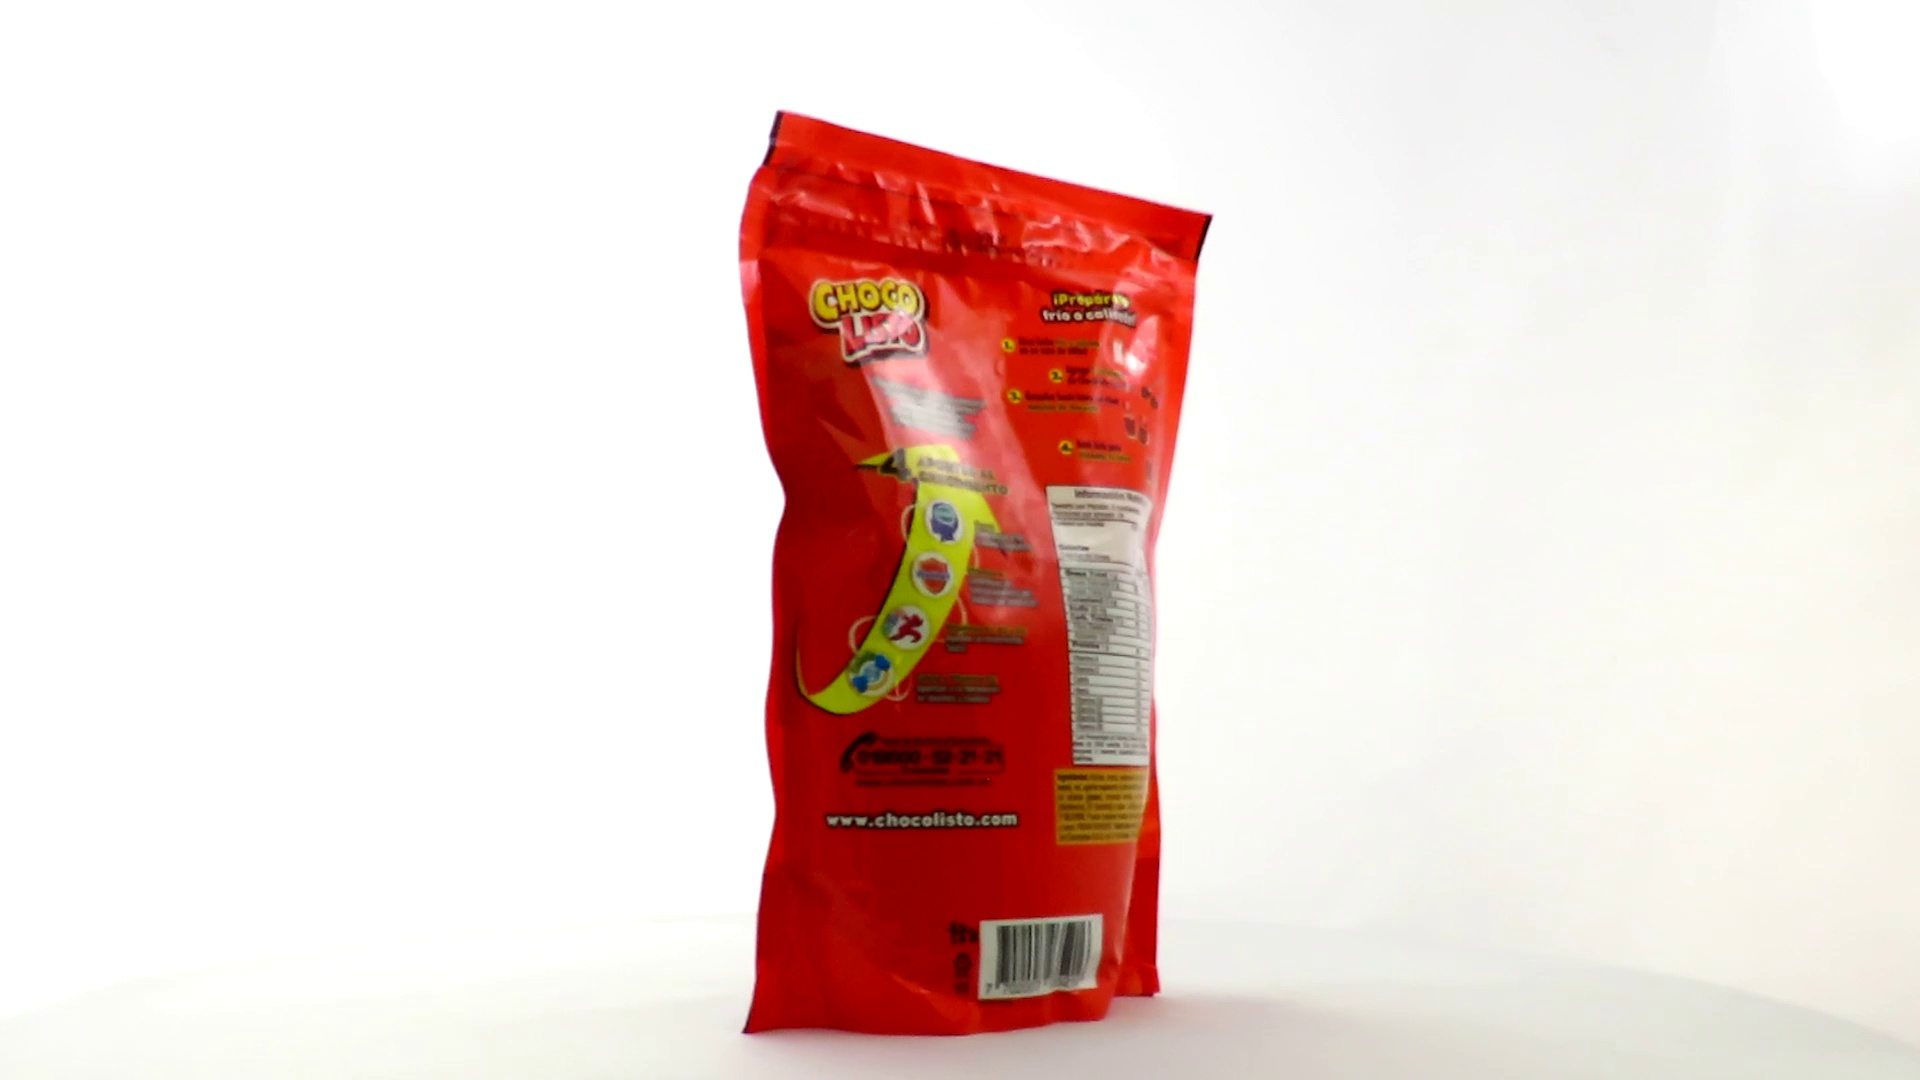COL0170103DYP36000: (733, 105, 1218, 1043)
